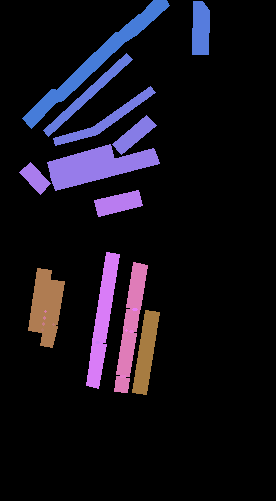parkingspot: (22, 0, 169, 128), (43, 53, 132, 136), (53, 86, 155, 145), (50, 148, 159, 190), (92, 252, 119, 342), (132, 310, 159, 394), (47, 144, 114, 177), (112, 115, 156, 154), (28, 268, 51, 332), (94, 190, 142, 216), (19, 162, 50, 194), (126, 262, 147, 309), (116, 330, 136, 376), (192, 1, 209, 54), (44, 280, 64, 324), (40, 322, 57, 347), (89, 342, 106, 365), (86, 365, 102, 388), (123, 309, 139, 331), (114, 376, 129, 392)
